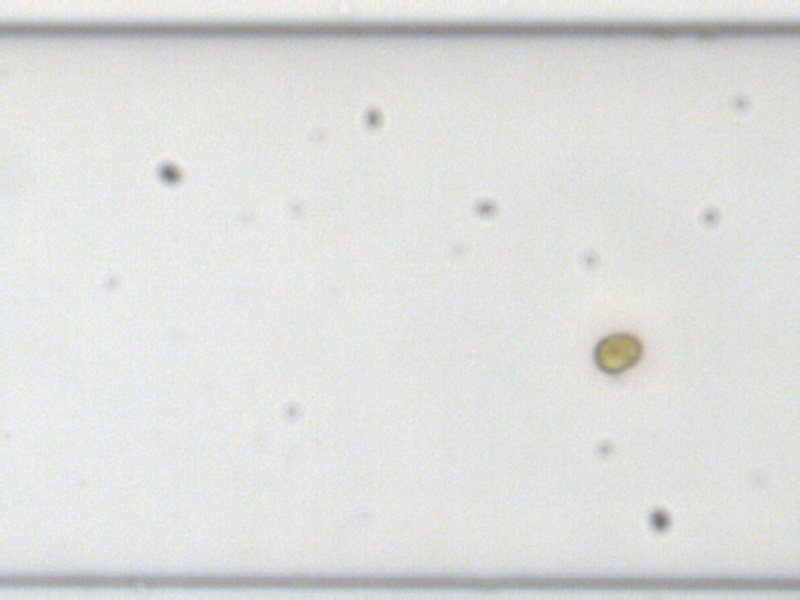Effrenium: (590, 329, 644, 376)
